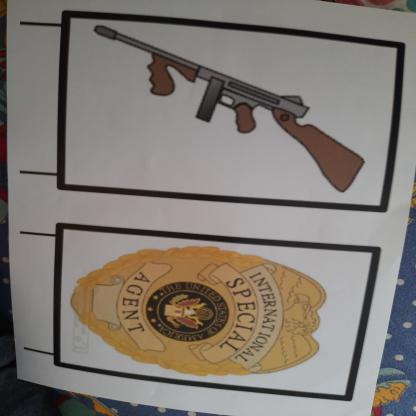Bootlegger: (85, 18, 379, 201)
G-man: (54, 240, 344, 387)
